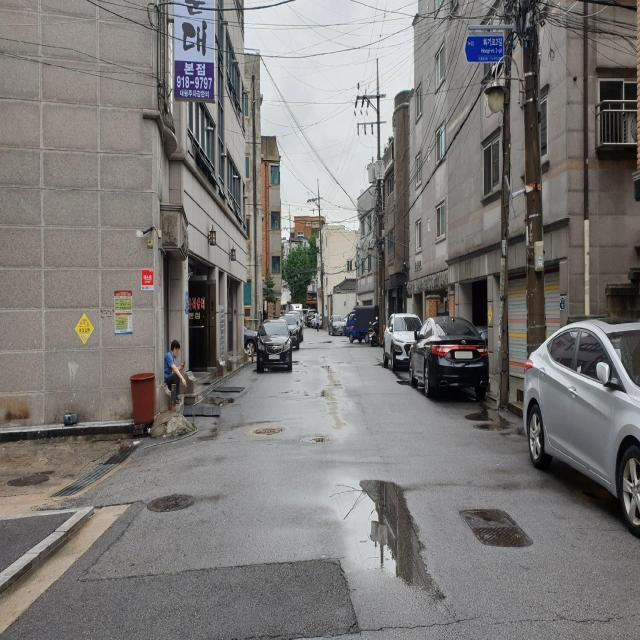car ahead at: (515, 313, 640, 532), (411, 306, 494, 401), (256, 310, 292, 367)
dustbin ahead at: (128, 368, 160, 423)
electric pole ahead at: (485, 0, 521, 420)
